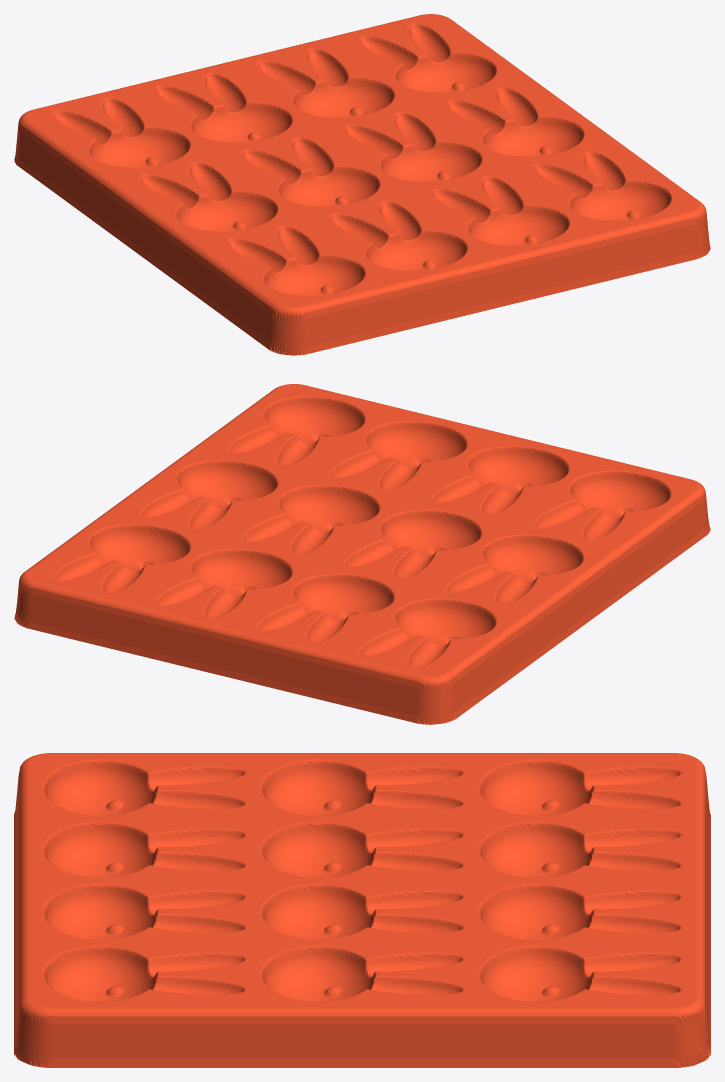
File: mold.glb
3 views of the same model, one above another, from view 1: azimuth 30°, elevation 25°; view 2: azimuth 150°, elevation 25°; view 3: azimuth 270°, elevation 25° (orthographic). The views are drawn at different scales.
Visible parts, largest first — view 1: geometry_0; view 2: geometry_0; view 3: geometry_0.
Part boxes in pixels (x1=…): geometry_0: x1=14, y1=14, x2=710, y2=355; geometry_0: x1=14, y1=384, x2=710, y2=724; geometry_0: x1=14, y1=753, x2=710, y2=1067.
Bounding box in the file's own units: 0.1535 × 0.0145 × 0.1696.
